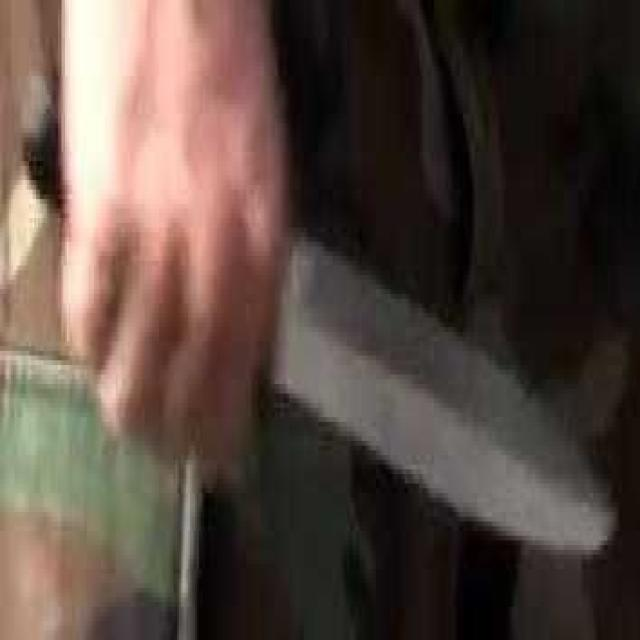Knife: (15, 57, 640, 635)
